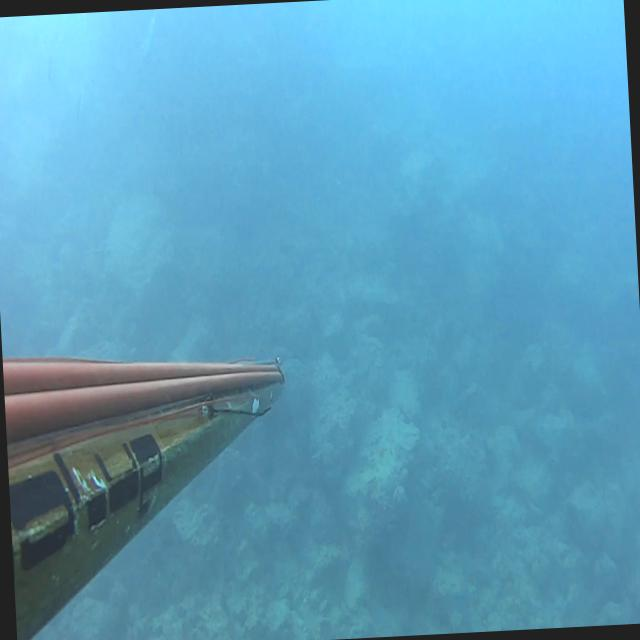Balon Baligi: (137, 8, 159, 57), (44, 32, 60, 83), (74, 84, 84, 116)
